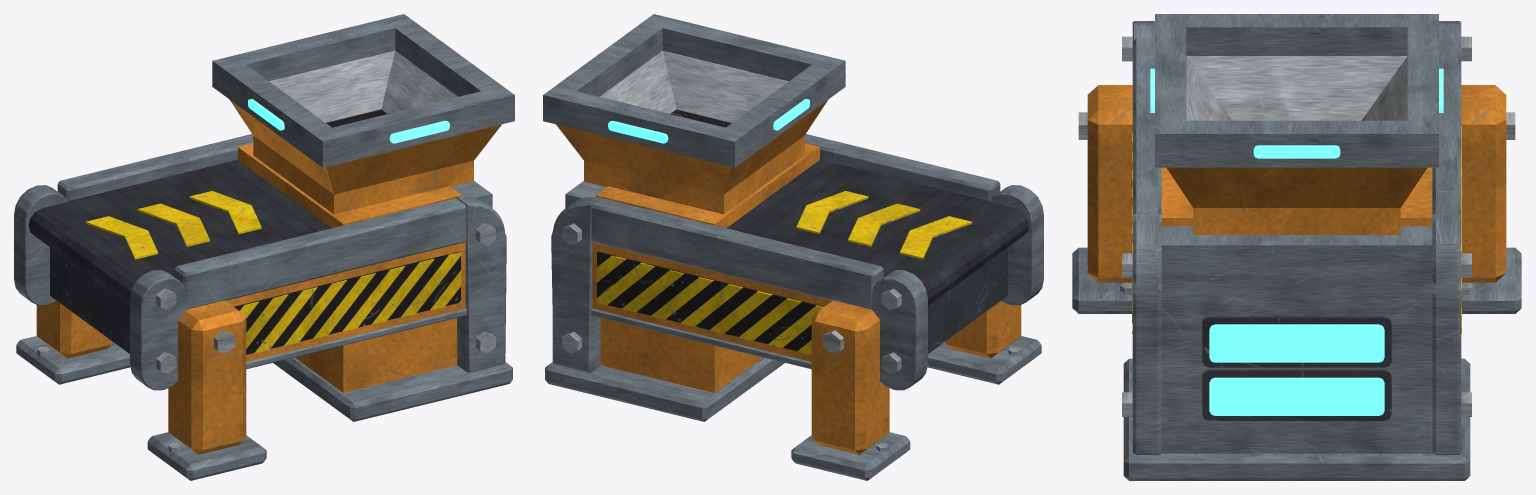
Rendered from conveyor_end.fbx.
The picture shows the model from 3 angles, left to right: view 1: azimuth 30°, elevation 25°; view 2: azimuth 150°, elevation 25°; view 3: azimuth 270°, elevation 25°; orthographic projection. The views are drawn at different scales.
Parts seen in each view (by area): view 1: ConveyorEnd_SteelGrey, ConveyorEnd_Orange, ConveyorEnd_Belt, ConveyorEnd_Yellow, ConveyorEnd_SteelLight, ConveyorEnd_Black, ConveyorEnd_DarkGrey, ConveyorEnd_Cyan; view 2: ConveyorEnd_SteelGrey, ConveyorEnd_Orange, ConveyorEnd_Belt, ConveyorEnd_Yellow, ConveyorEnd_SteelLight, ConveyorEnd_Black, ConveyorEnd_DarkGrey, ConveyorEnd_Cyan; view 3: ConveyorEnd_SteelGrey, ConveyorEnd_Orange, ConveyorEnd_SteelLight, ConveyorEnd_Cyan, ConveyorEnd_DarkGrey.
Part boxes in pixels (box(x1,y1,x2,y2)): ConveyorEnd_SteelGrey: box(14, 14, 514, 480); ConveyorEnd_Orange: box(36, 99, 501, 454); ConveyorEnd_Belt: box(28, 160, 331, 305); ConveyorEnd_Yellow: box(85, 191, 461, 352); ConveyorEnd_SteelLight: box(37, 50, 495, 452); ConveyorEnd_Black: box(234, 109, 460, 354); ConveyorEnd_DarkGrey: box(50, 247, 129, 353); ConveyorEnd_Cyan: box(248, 99, 449, 143); ConveyorEnd_SteelGrey: box(543, 14, 1043, 480); ConveyorEnd_Orange: box(556, 99, 1021, 454); ConveyorEnd_Belt: box(726, 160, 1029, 305); ConveyorEnd_Yellow: box(596, 191, 972, 355); ConveyorEnd_SteelLight: box(562, 50, 1020, 452); ConveyorEnd_Black: box(597, 109, 823, 351); ConveyorEnd_DarkGrey: box(928, 247, 1007, 353); ConveyorEnd_Cyan: box(608, 99, 809, 143); ConveyorEnd_SteelGrey: box(1072, 14, 1521, 480); ConveyorEnd_Orange: box(1087, 85, 1506, 282); ConveyorEnd_SteelLight: box(1078, 36, 1515, 416); ConveyorEnd_Cyan: box(1150, 68, 1443, 415); ConveyorEnd_DarkGrey: box(1202, 316, 1391, 420).
Bounding box in the file's own units: 6.33 × 4.36 × 4.98.
8 materials, 7 textured.
